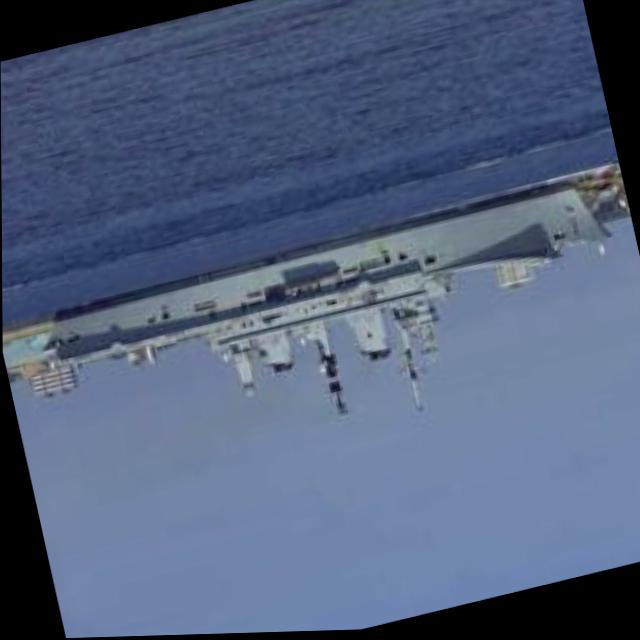ship2: (41, 186, 614, 417)
